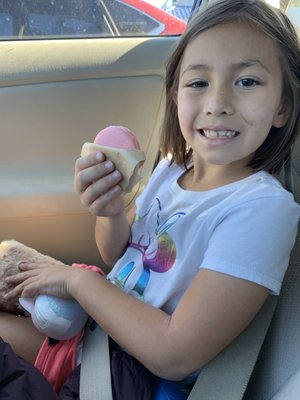soup: (19, 294, 88, 341)
